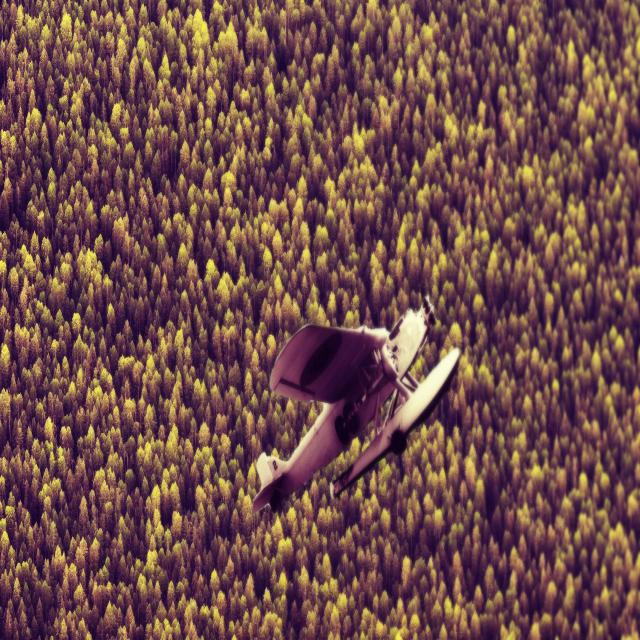airplane: (251, 293, 460, 515)
